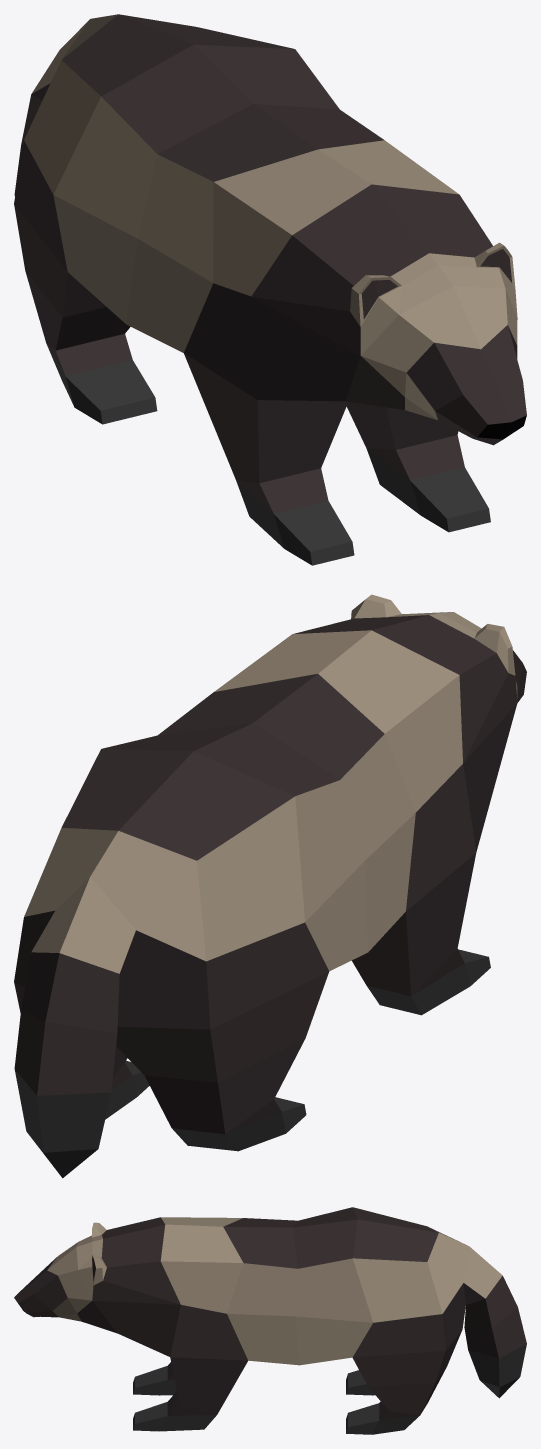
File: Model_Kuzuri (1).fbx
The picture shows the model from 3 angles, top to bottom: view 1: azimuth 30°, elevation 25°; view 2: azimuth 150°, elevation 25°; view 3: azimuth 270°, elevation 25°; orthographic projection. The views are drawn at different scales.
Visible parts, largest first — view 1: kuzuri; view 2: kuzuri; view 3: kuzuri.
Part boxes in pixels (box(x1,y1,x2,y2)): kuzuri: box(14, 14, 526, 565); kuzuri: box(14, 594, 526, 1178); kuzuri: box(14, 1207, 526, 1434).
Size of the model in its own units: 75.91 by 96.18 by 238.
